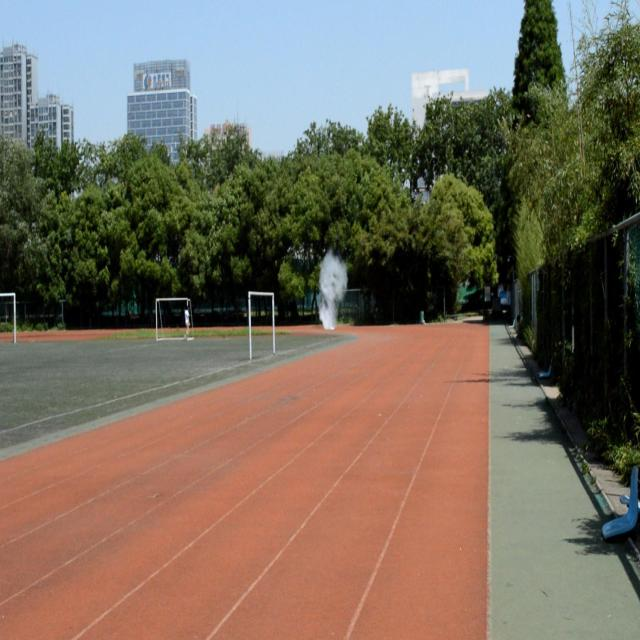smoke: (315, 248, 349, 331)
